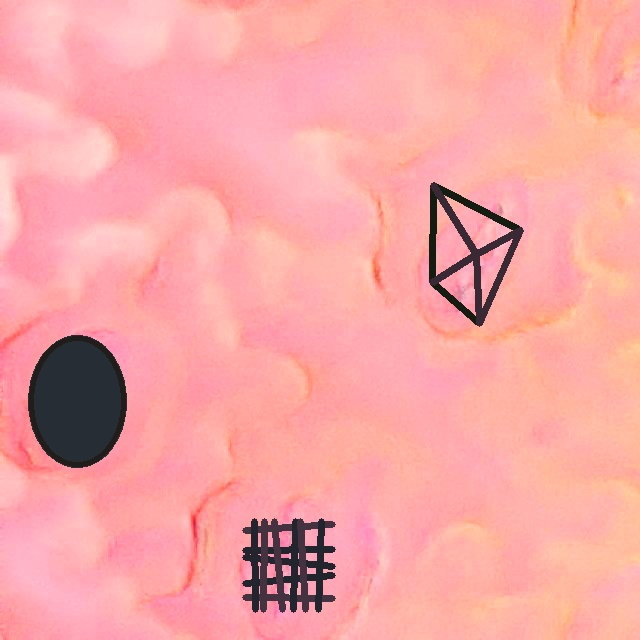open: (429, 182, 523, 326), (28, 335, 126, 467), (242, 518, 335, 612)
